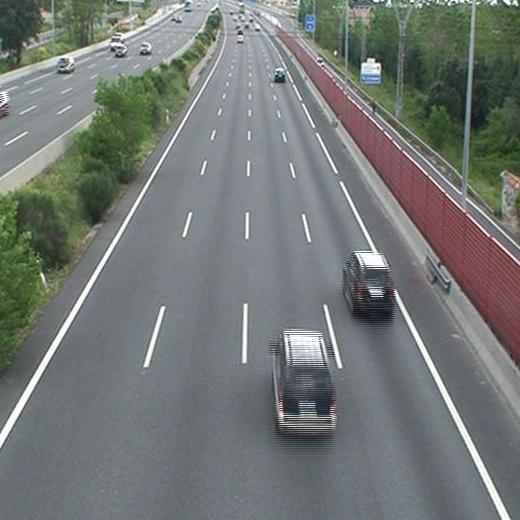car: (273, 332, 336, 433), (345, 254, 394, 311), (274, 69, 285, 79), (237, 33, 244, 44)
